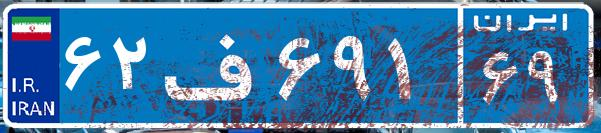1: (385, 28, 445, 110)
2: (110, 28, 158, 105)
6: (273, 28, 330, 110), (57, 26, 110, 107), (475, 38, 525, 113)
9: (330, 28, 385, 110), (525, 38, 570, 115)
ف: (158, 15, 273, 115)
